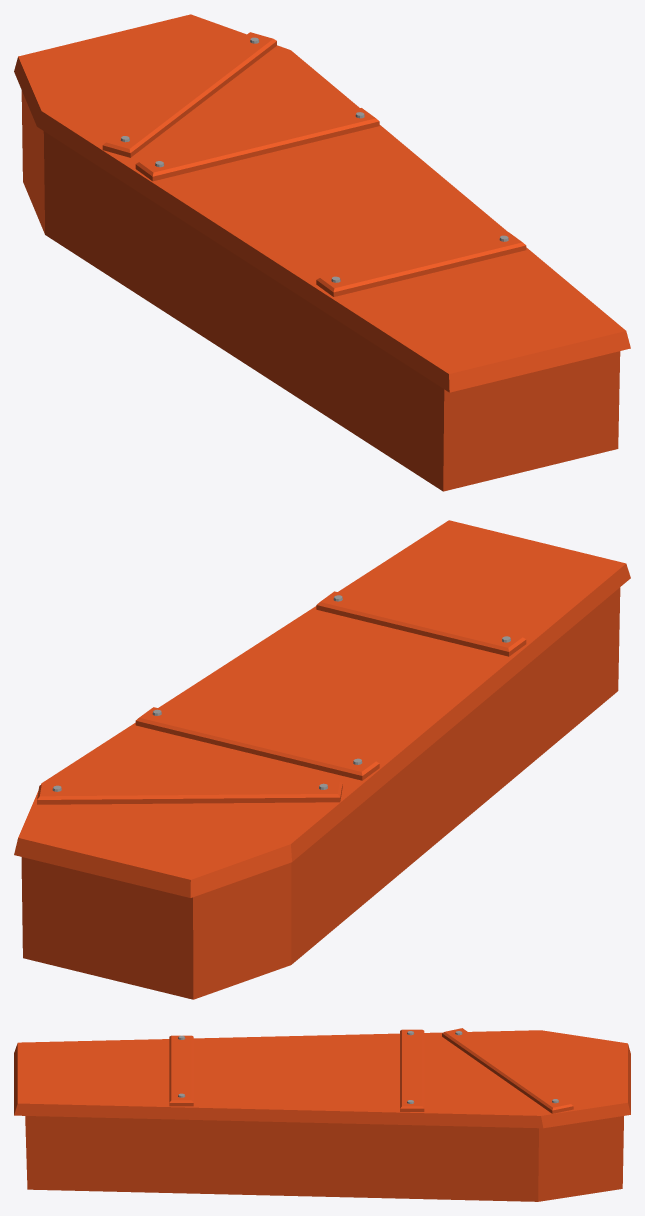
Rendered from CaixaoDeMadeira.fbx.
3 renders of one model, top to bottom at view 1: azimuth 30°, elevation 25°; view 2: azimuth 150°, elevation 25°; view 3: azimuth 270°, elevation 25°, orthographic. The views are drawn at different scales.
Parts seen in each view (by area): view 1: CaixaoMadeira; view 2: CaixaoMadeira; view 3: CaixaoMadeira.
Boxes of the visible parts, bbox=[...] form: CaixaoMadeira: bbox=[14, 14, 630, 491]; CaixaoMadeira: bbox=[14, 520, 630, 999]; CaixaoMadeira: bbox=[14, 1028, 630, 1201].
Bounding box in the file's own units: 75.04 × 37.23 × 223.
1 material, 1 textured.
